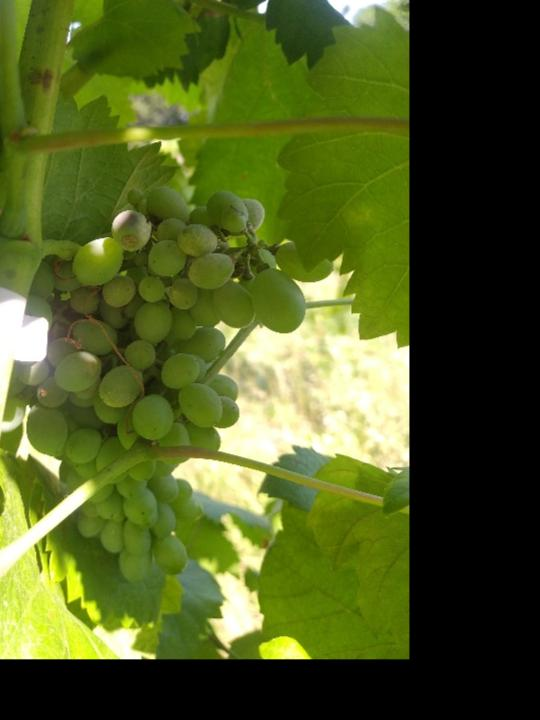grape: (0, 179, 338, 588)
